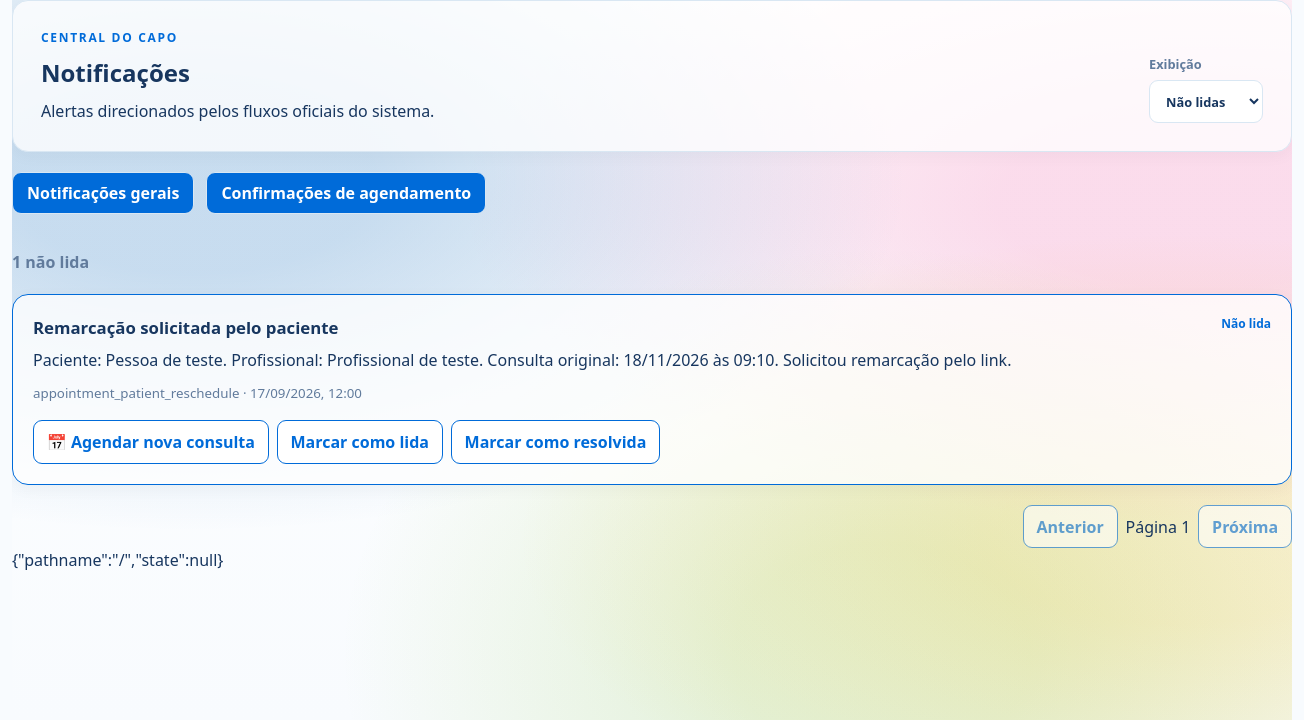
Test case: NotificationsPage › abre novo agendamento com vínculo seguro da consulta cancelada pelo link
Expected: the text "Consulta original: 18/11/2026 às 09:10" is shown, [33, 349, 1011, 371]
Click the button "📅 Agendar nova consulta" at [151, 442], box [33, 420, 269, 464]
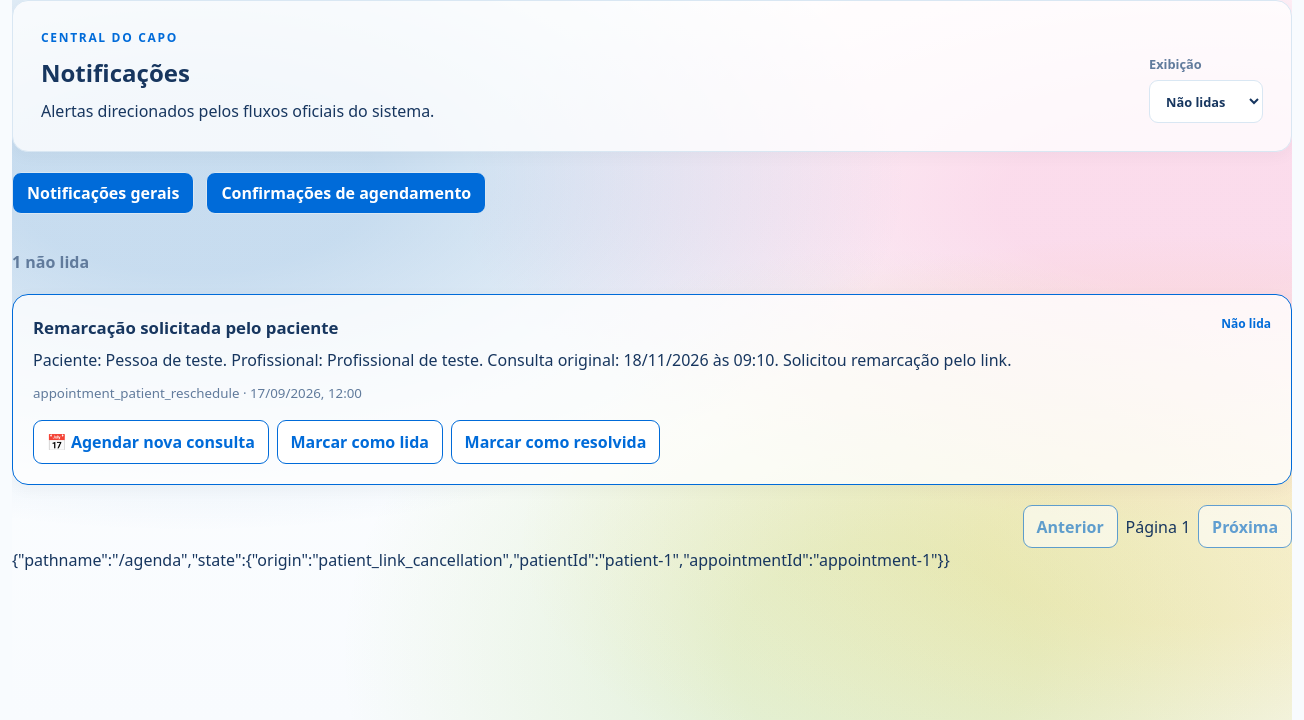
Expected: the text with test id "destination" shows "patient_link_cancellation", [12, 549, 950, 571]
Expected: the text with test id "destination" shows "appointment-1", [12, 549, 950, 571]
Expected: the text with test id "destination" shows "patient-1", [12, 549, 950, 571]
